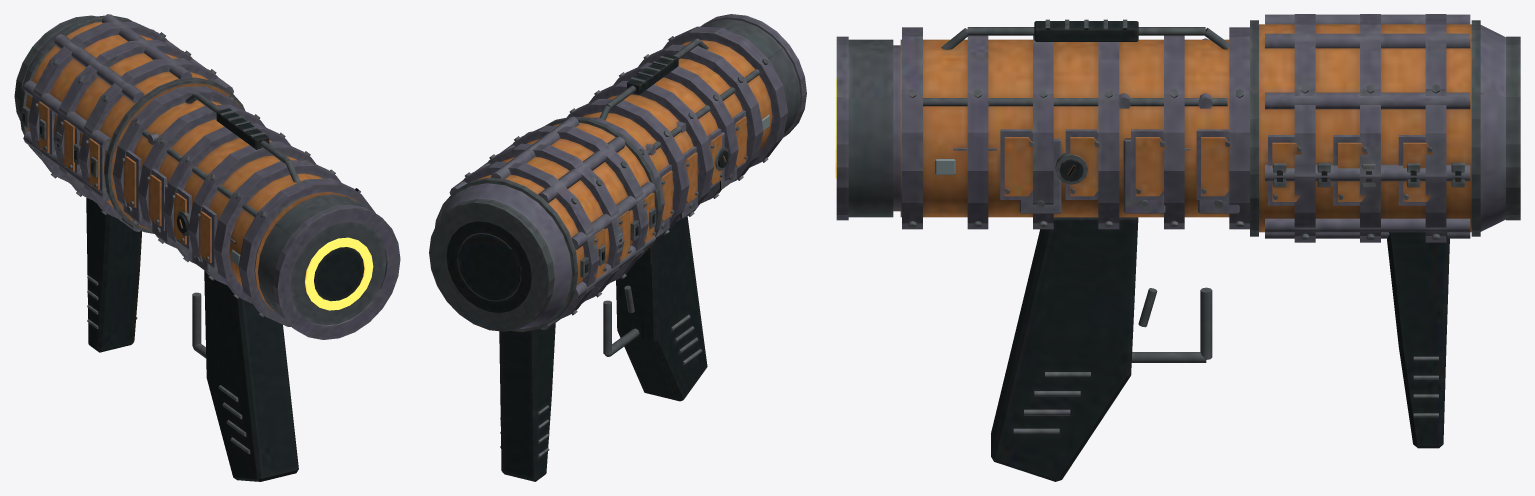
The model's file is heavy_0.glb.
3 views of the same model, side by side, from view 1: azimuth 30°, elevation 25°; view 2: azimuth 150°, elevation 25°; view 3: azimuth 270°, elevation 25° (orthographic). The views are drawn at different scales.
Parts seen in each view (by area): view 1: Weapon_heavy_pbr_proof; view 2: Weapon_heavy_pbr_proof; view 3: Weapon_heavy_pbr_proof.
Boxes of the visible parts, x1=… form: Weapon_heavy_pbr_proof: x1=14, y1=14, x2=400, y2=481; Weapon_heavy_pbr_proof: x1=429, y1=14, x2=806, y2=481; Weapon_heavy_pbr_proof: x1=835, y1=14, x2=1520, y2=481.
Bounding box in the file's own units: 0.154 × 0.3315 × 0.461.
Materials: 6 (4 with a texture image).
